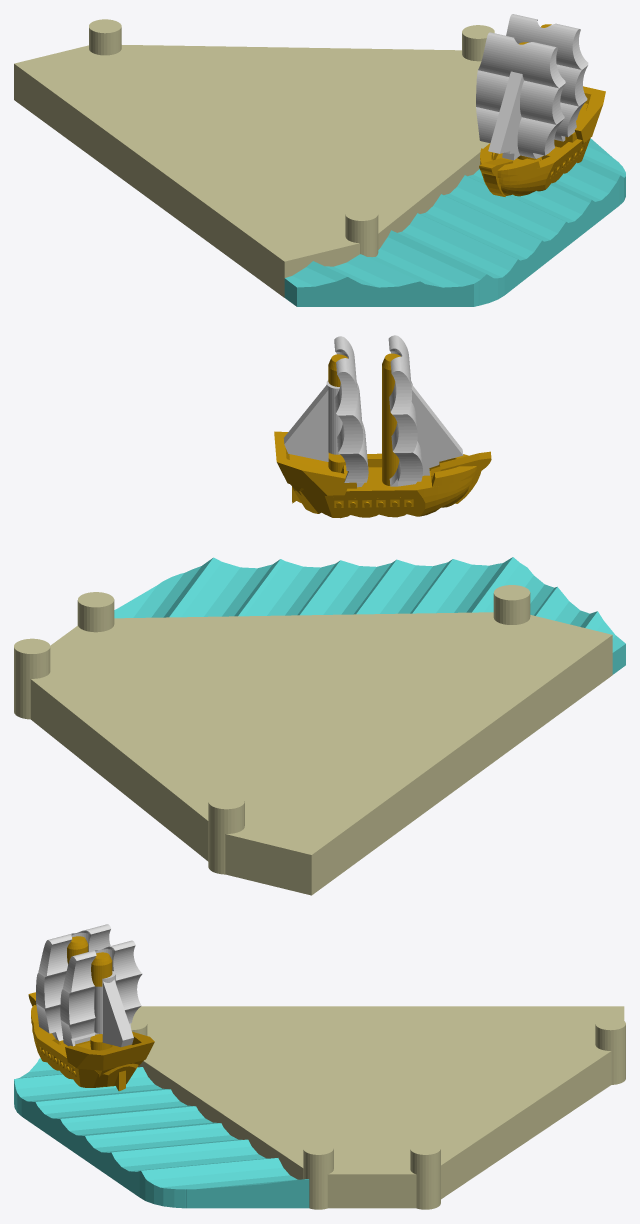
File: harbor_base.glb
3 renders of one model, top to bottom at view 1: azimuth 30°, elevation 25°; view 2: azimuth 150°, elevation 25°; view 3: azimuth 270°, elevation 25°, orthographic. The views are drawn at different scales.
Parts seen in each view (by area): view 1: part_1; view 2: part_1; view 3: part_1.
Part boxes in pixels (x1=…): part_1: x1=14, y1=14, x2=625, y2=306; part_1: x1=14, y1=335, x2=625, y2=895; part_1: x1=14, y1=924, x2=625, y2=1209.
Bounding box in the file's own units: 26.21 × 14.87 × 40.01.
